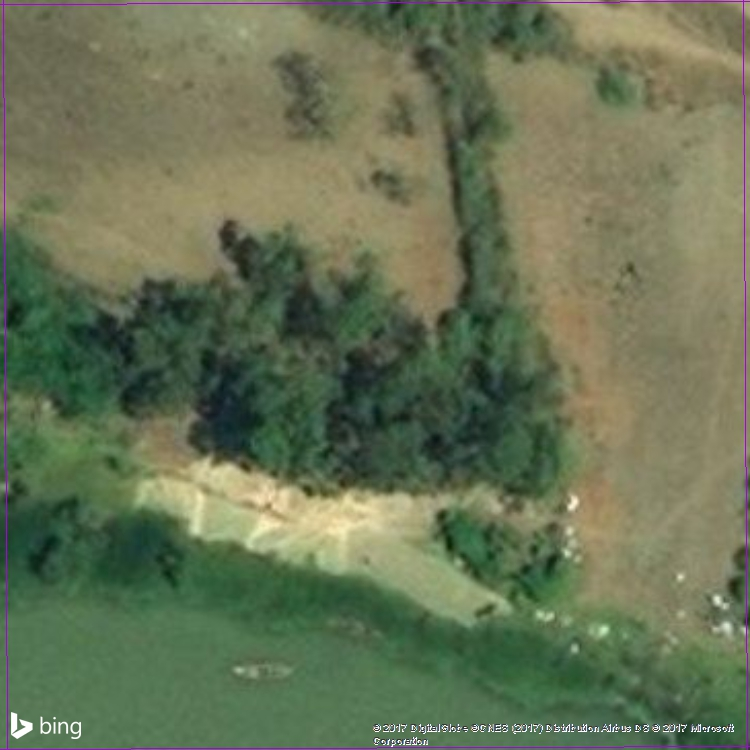boat: (222, 655, 305, 694)
